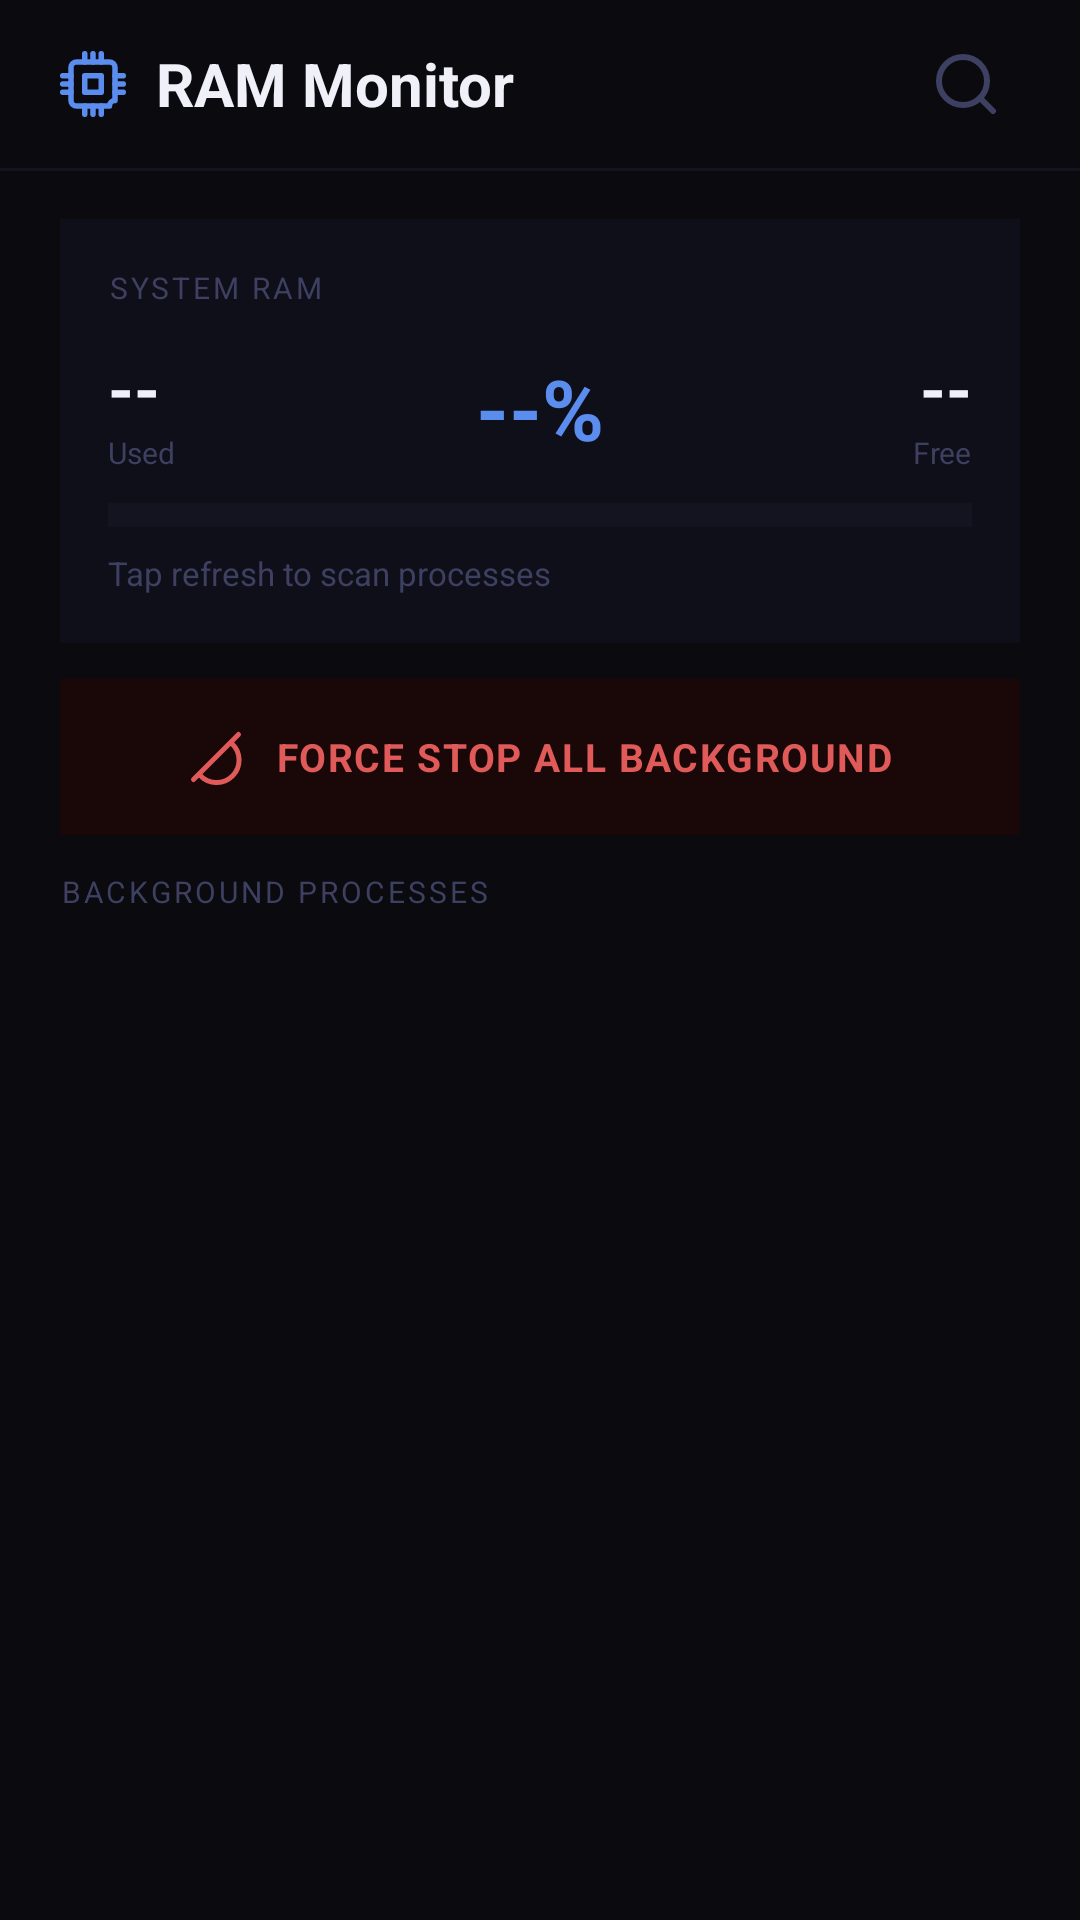

Named icons in this screenshot (1080x1920) and their centers, (x=x, y=y):
memory: (x=93, y=84)
search: (x=966, y=84)
